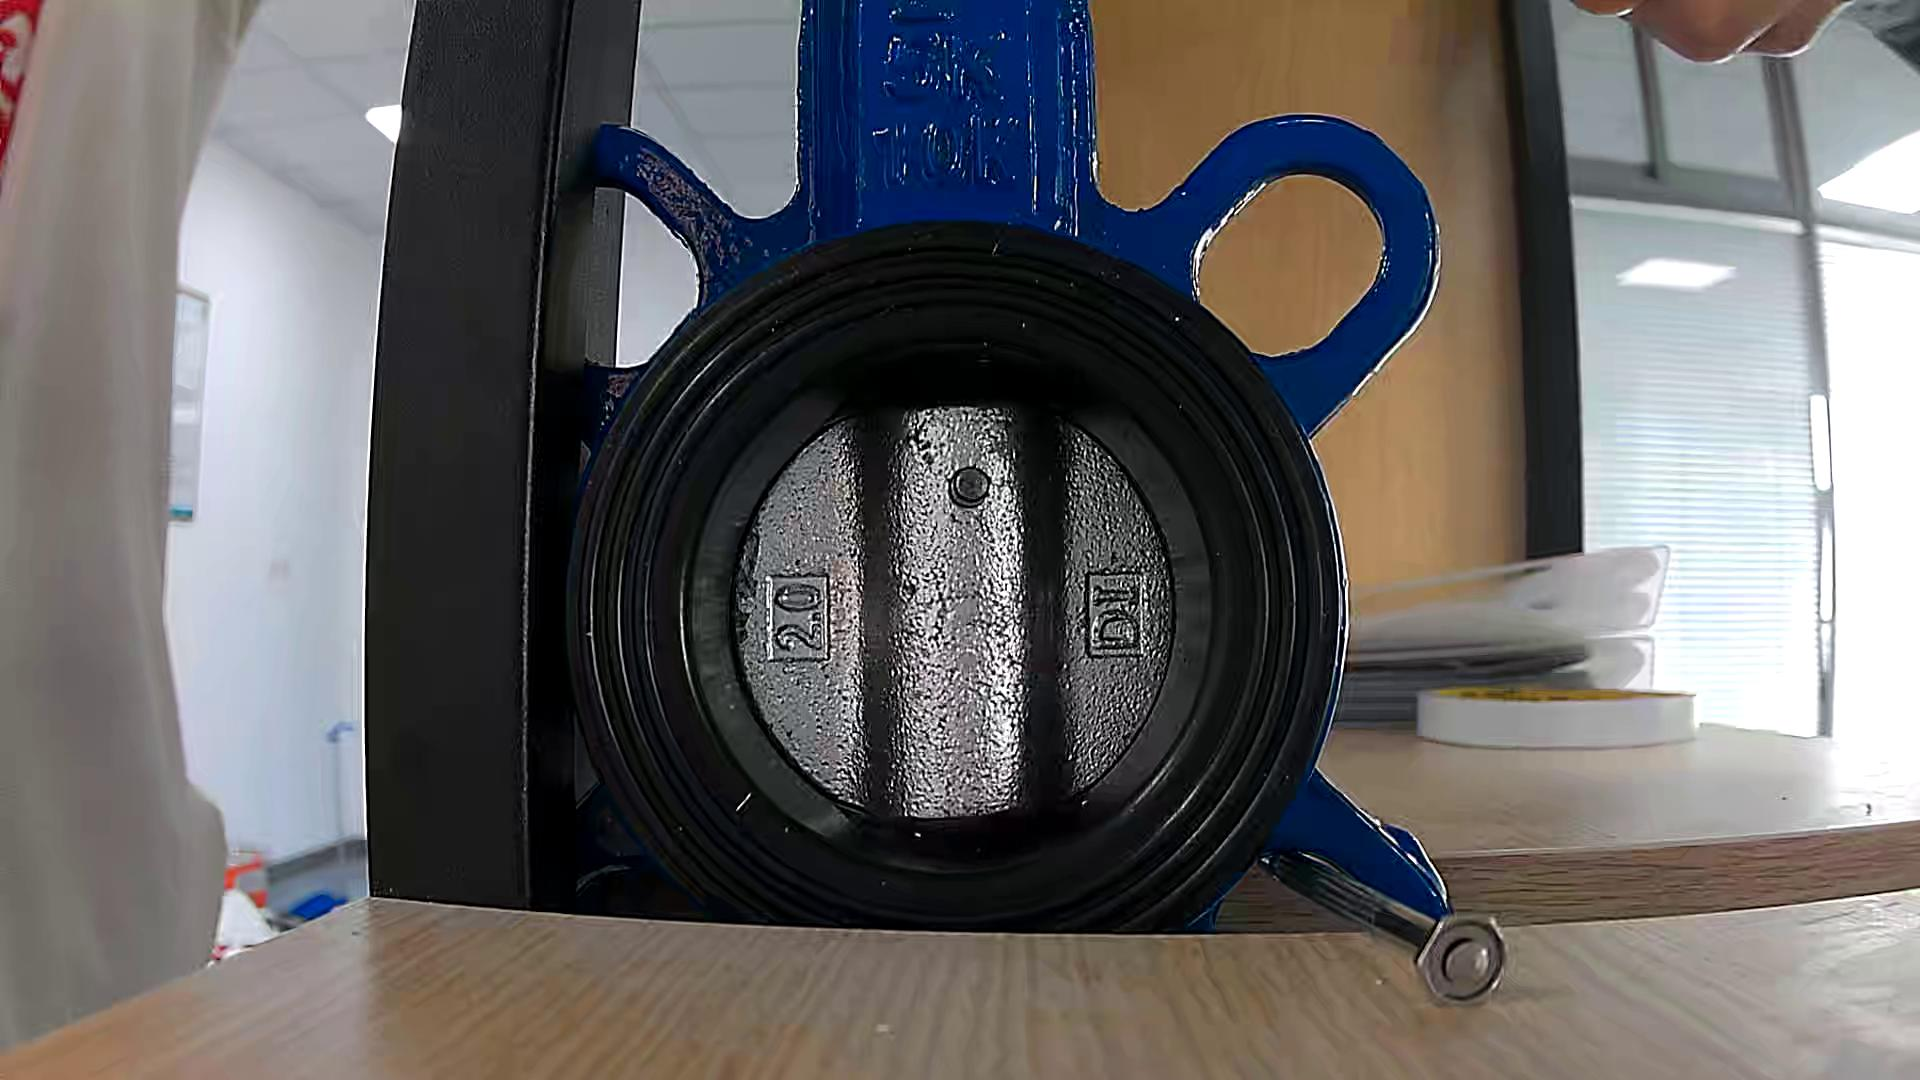valve: (735, 400, 1174, 822)
